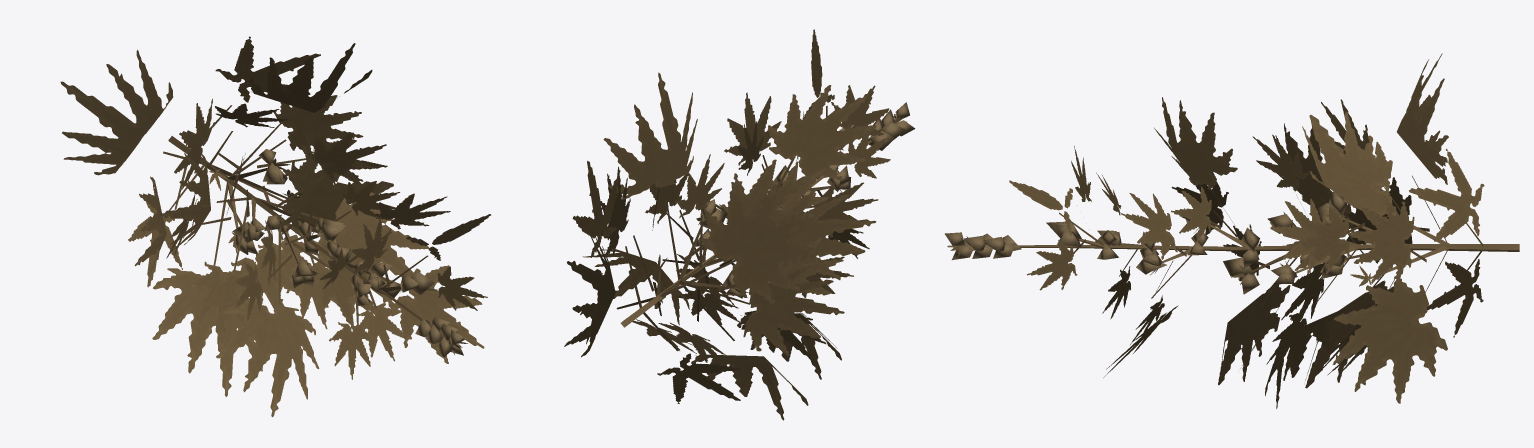
The model's file is p_male_haze_flowering_c3_cards.obj.
3 renders of one model, left to right at view 1: azimuth 30°, elevation 25°; view 2: azimuth 150°, elevation 25°; view 3: azimuth 270°, elevation 25°, orthographic. The views are drawn at different scales.
Size of the model in its own units: 1.42 by 1.36 by 1.91.
1 material, 1 textured.
